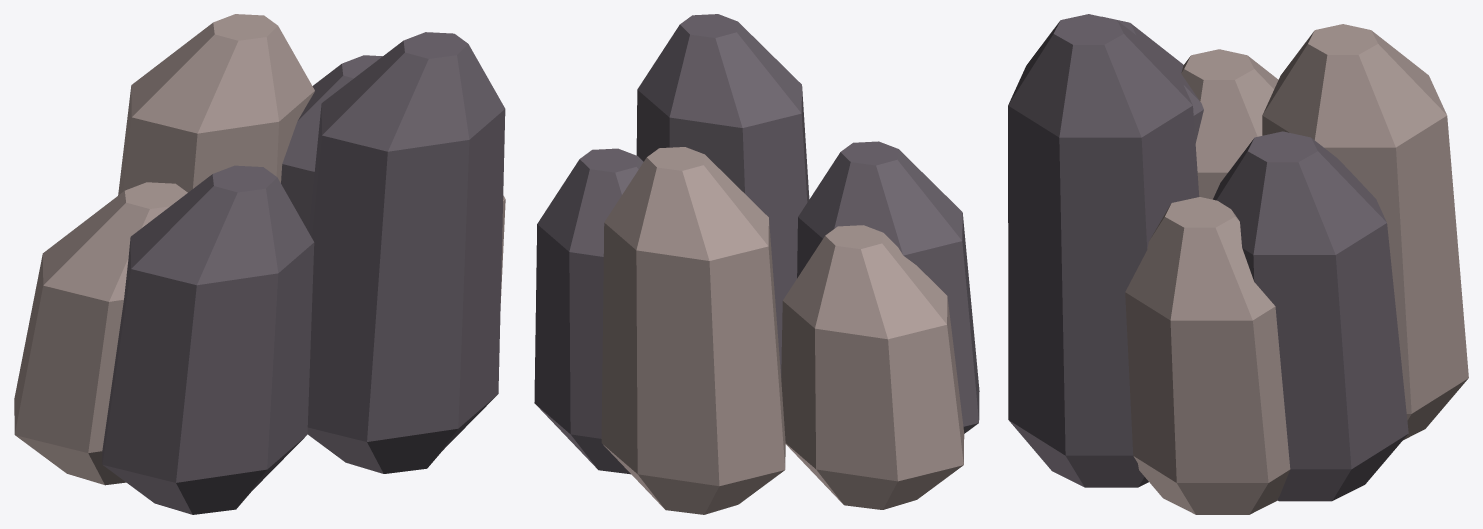
The model's file is IronOre.obj.
3 renders of one model, left to right at view 1: azimuth 30°, elevation 25°; view 2: azimuth 150°, elevation 25°; view 3: azimuth 270°, elevation 25°, orthographic. The views are drawn at different scales.
Visible parts, largest first — view 1: Body; view 2: Body; view 3: Body.
Boxes of the visible parts, x1,y1,x2,y2 form: Body: [14, 14, 505, 514]; Body: [534, 14, 979, 514]; Body: [1008, 14, 1468, 514].
Size of the model in its own units: 0.7568 by 0.639 by 0.588.
Materials: 1 (1 with a texture image).
